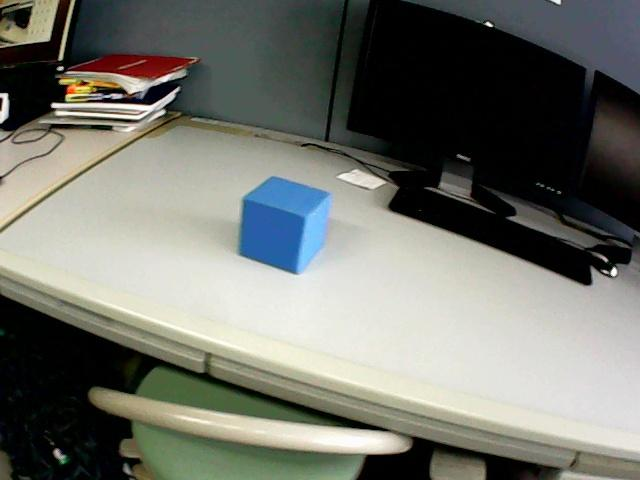blue_block: (239, 177, 331, 272)
